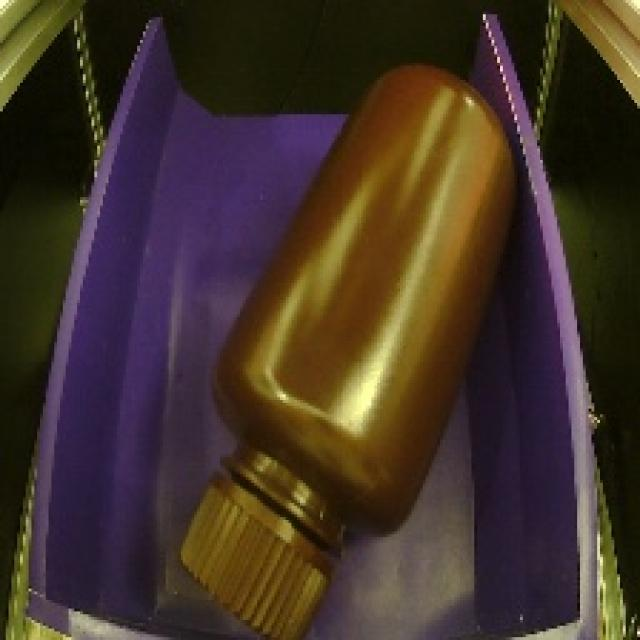plastic: (163, 54, 539, 640)
